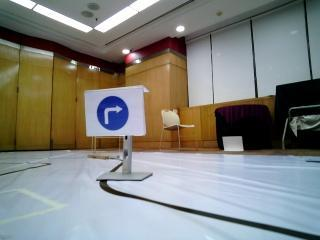right: (86, 91, 142, 135)
